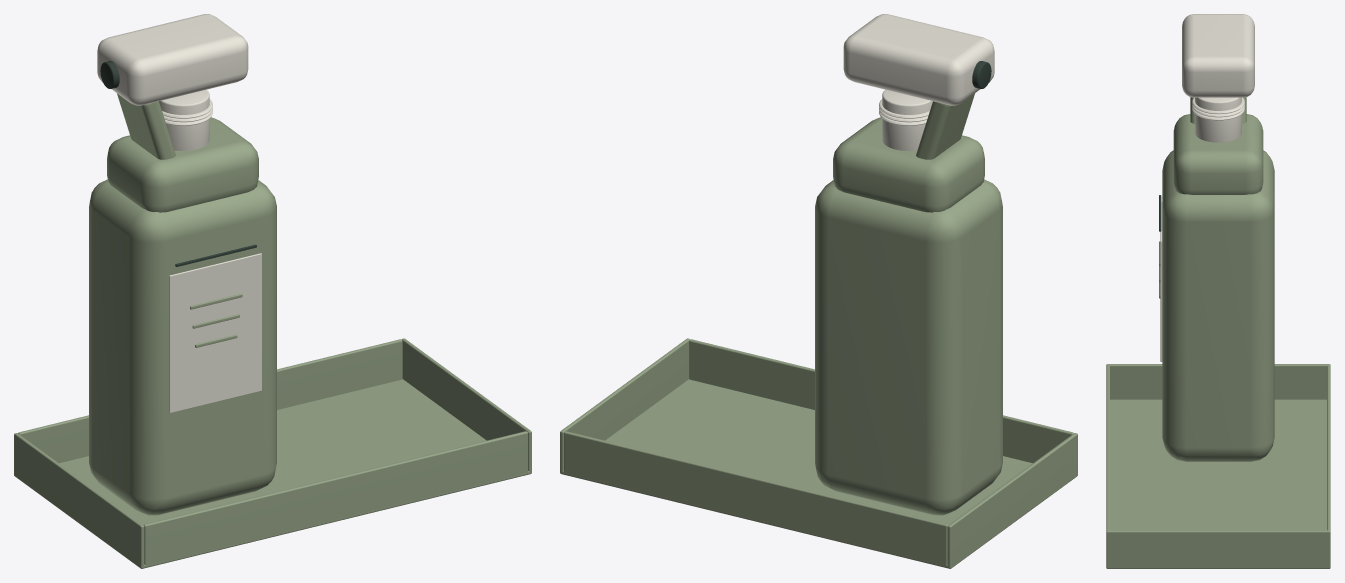
The model's file is disinfect-pack.glb.
3 renders of one model, left to right at view 1: azimuth 30°, elevation 25°; view 2: azimuth 150°, elevation 25°; view 3: azimuth 270°, elevation 25°, orthographic. The views are drawn at different scales.
Visible parts, largest first — view 1: Task bottle molded body, Presentation tray floor, Presentation tray front, Task bottle task label, Task bottle trigger head, Task bottle shoulder, Presentation tray back, Presentation tray left, Presentation tray right, Task bottle squeeze lever, Task bottle neck; view 2: Task bottle molded body, Presentation tray back, Presentation tray floor, Task bottle trigger head, Task bottle shoulder, Presentation tray front, Presentation tray left, Presentation tray right, Task bottle squeeze lever, Task bottle neck; view 3: Task bottle molded body, Presentation tray floor, Presentation tray right, Task bottle trigger head, Task bottle shoulder, Presentation tray left, Task bottle neck, Presentation tray back, Presentation tray front, Task bottle task label.
Part boxes in pixels (x1,y1,x2,y2): Task bottle molded body: [89, 179, 276, 515]; Presentation tray floor: [59, 379, 531, 568]; Presentation tray front: [143, 431, 527, 566]; Task bottle task label: [169, 253, 261, 413]; Task bottle trigger head: [97, 14, 248, 105]; Task bottle shoulder: [107, 117, 258, 212]; Presentation tray back: [18, 339, 402, 463]; Presentation tray left: [14, 433, 144, 568]; Presentation tray right: [401, 338, 531, 473]; Task bottle squeeze lever: [117, 93, 175, 159]; Task bottle neck: [159, 89, 209, 150]; Task bottle molded body: [815, 179, 1002, 515]; Presentation tray back: [564, 431, 948, 567]; Presentation tray floor: [560, 379, 1032, 568]; Task bottle trigger head: [843, 14, 994, 105]; Task bottle shoulder: [833, 117, 984, 212]; Presentation tray front: [689, 339, 1073, 463]; Presentation tray left: [947, 433, 1077, 568]; Presentation tray right: [560, 338, 690, 473]; Task bottle squeeze lever: [916, 93, 974, 159]; Task bottle neck: [882, 89, 932, 150]; Task bottle molded body: [1162, 150, 1274, 461]; Presentation tray floor: [1110, 399, 1326, 530]; Presentation tray right: [1106, 530, 1330, 568]; Task bottle trigger head: [1182, 14, 1254, 97]; Task bottle shoulder: [1173, 114, 1263, 194]; Presentation tray left: [1106, 364, 1330, 399]; Task bottle neck: [1195, 97, 1241, 142]; Presentation tray back: [1327, 365, 1330, 530]; Presentation tray front: [1106, 365, 1109, 530]; Task bottle task label: [1160, 201, 1162, 361].
Size of the model in its own units: 0.23 by 0.26 by 0.13.
